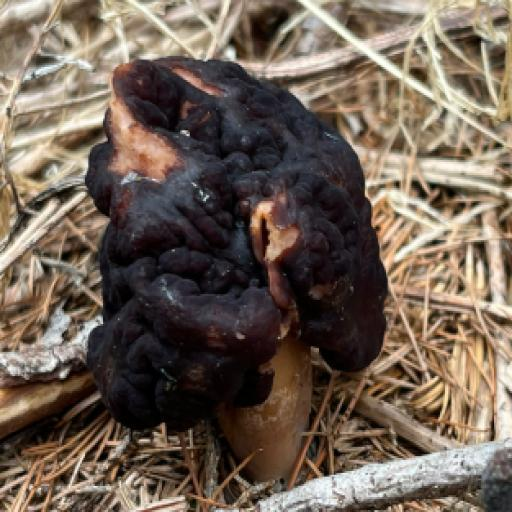mushroom: (64, 40, 396, 428)
